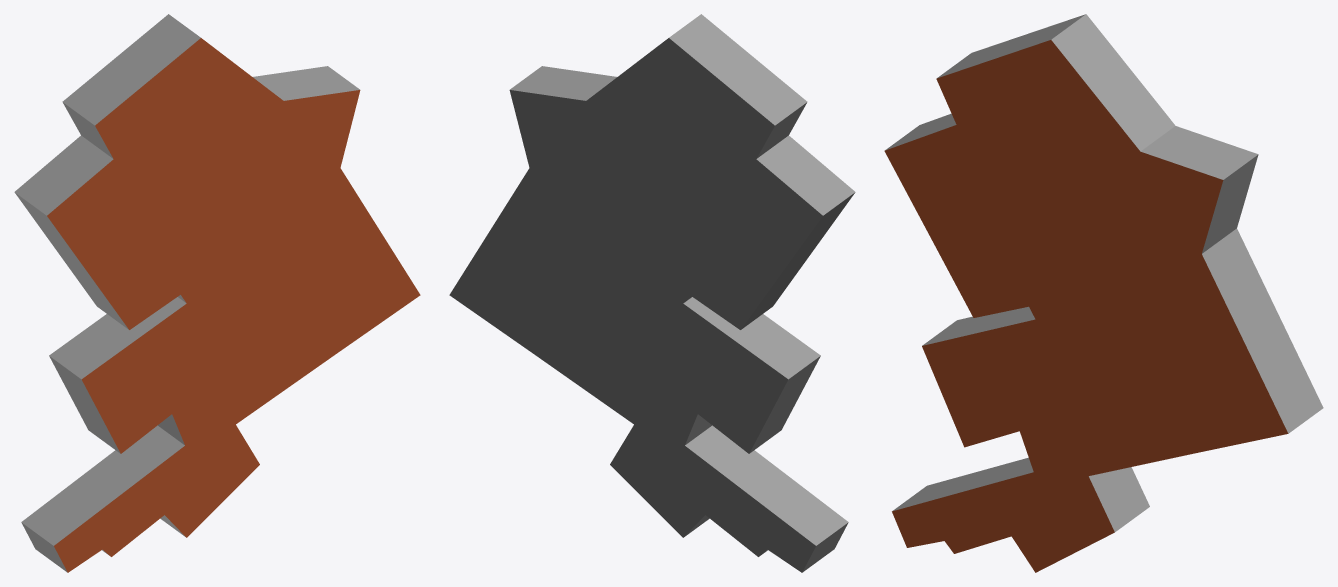
The model's file is construction_3173_assumed_A_Casa_h6m.obj.
3 views of the same model, side by side, from view 1: azimuth 30°, elevation 25°; view 2: azimuth 150°, elevation 25°; view 3: azimuth 330°, elevation 25° (orthographic). The views are drawn at different scales.
Parts seen in each view (by area): view 1: construction_3173_assumed_A_Casa; view 2: construction_3173_assumed_A_Casa; view 3: construction_3173_assumed_A_Casa.
Part boxes in pixels (bbox=[...]): construction_3173_assumed_A_Casa: bbox=[14, 14, 420, 572]; construction_3173_assumed_A_Casa: bbox=[449, 14, 855, 572]; construction_3173_assumed_A_Casa: bbox=[884, 14, 1323, 572].
Size of the model in its own units: 39.77 by 51.11 by 6.
